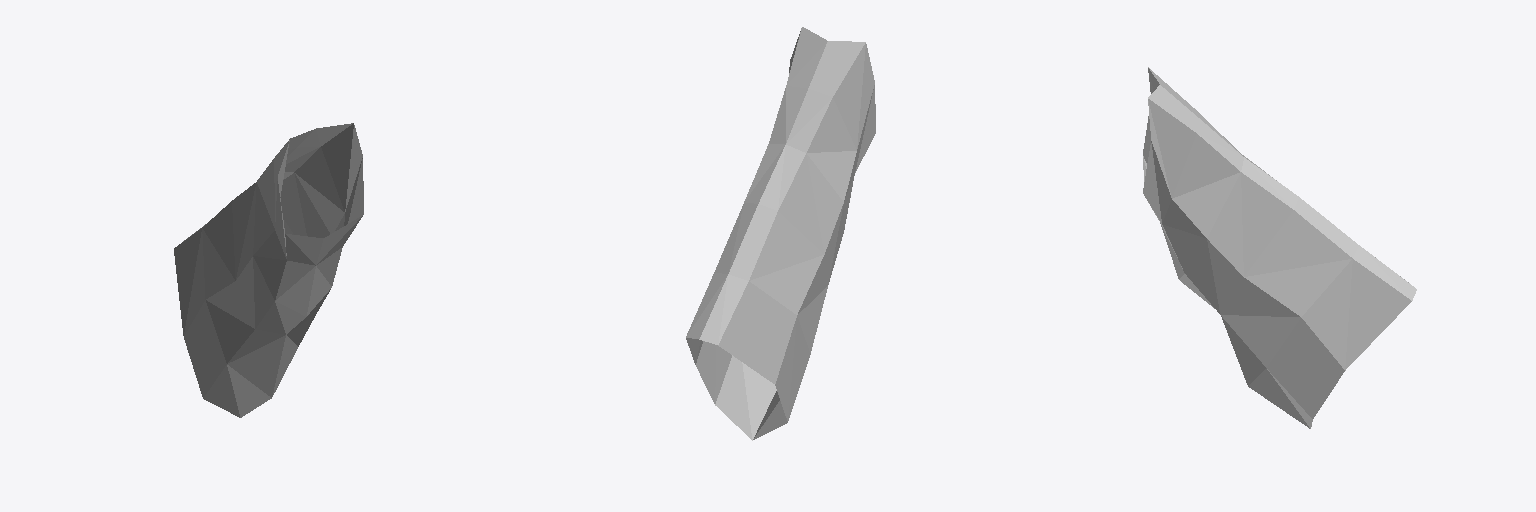
The model's file is 04_tail_root.obj.
3 renders of one model, left to right at view 1: azimuth 30°, elevation 25°; view 2: azimuth 150°, elevation 25°; view 3: azimuth 270°, elevation 25°, orthographic.
Visible parts, largest first — view 1: polySurface22 WolfMesh; view 2: polySurface22 WolfMesh; view 3: polySurface22 WolfMesh.
Part boxes in pixels (x1,y1,x2,y2): polySurface22 WolfMesh: (174,123,363,417); polySurface22 WolfMesh: (686,27,875,440); polySurface22 WolfMesh: (1143,67,1416,428).
Bounding box in the file's own units: 0.2648 × 1.03 × 0.7372.